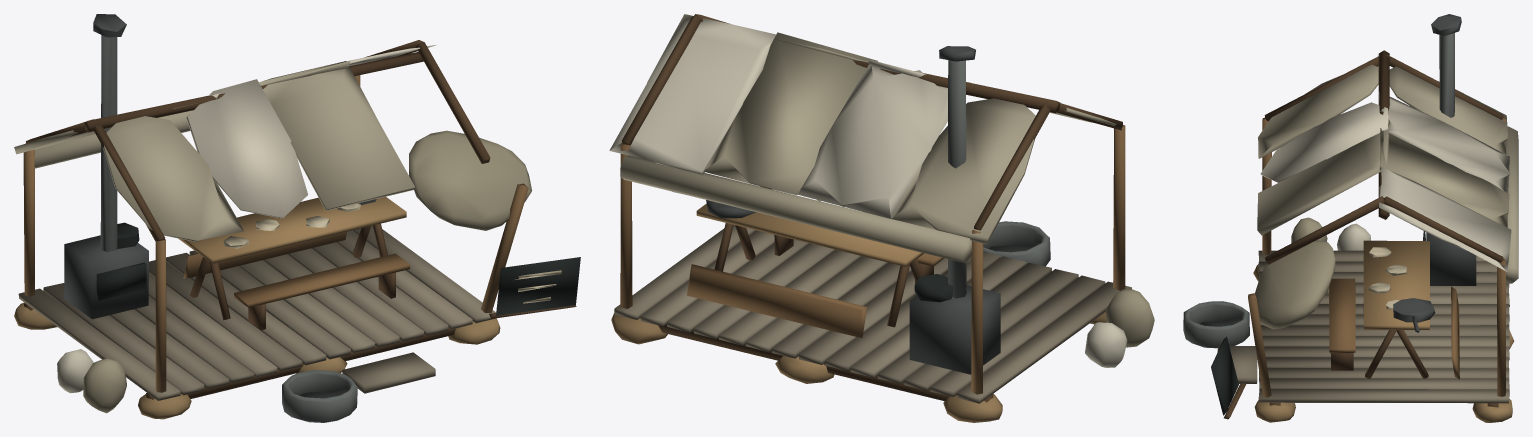
Rendered from crew_cookshack_b_lod2.glb.
The picture shows the model from 3 angles, left to right: view 1: azimuth 30°, elevation 25°; view 2: azimuth 150°, elevation 25°; view 3: azimuth 270°, elevation 25°; orthographic projection. The views are drawn at different scales.
Parts seen in each view (by area): view 1: Surface.001; view 2: Surface.001; view 3: Surface.001.
Part boxes in pixels (box(x1,y1,x2,y2)): Surface.001: box(14, 14, 580, 422); Surface.001: box(609, 14, 1154, 422); Surface.001: box(1183, 14, 1518, 422).
Bounding box in the file's own units: 5.49 × 3.75 × 4.
